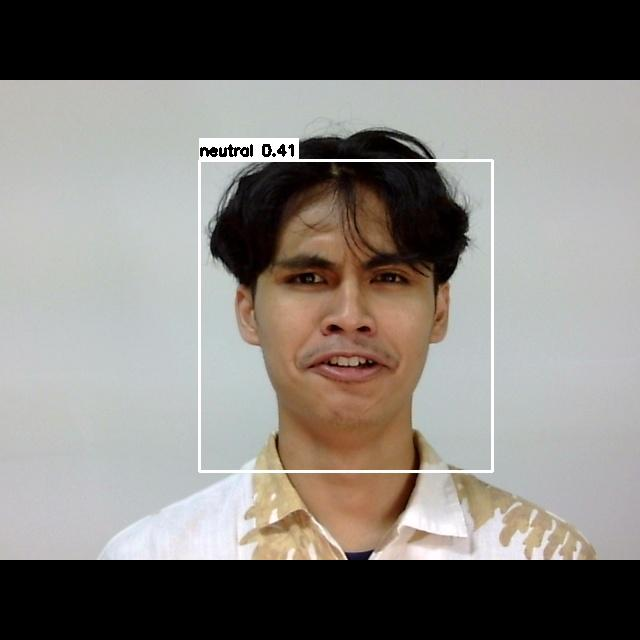Fear: (244, 217, 455, 443)
